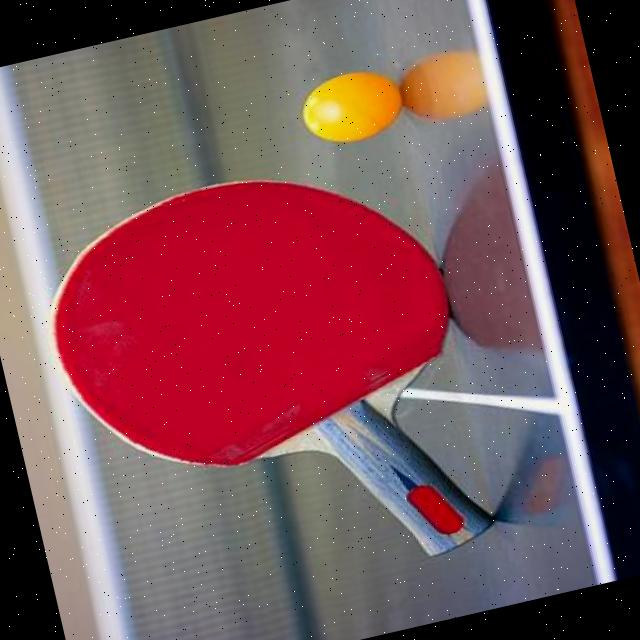ping-pong-ball: (292, 59, 416, 154)
